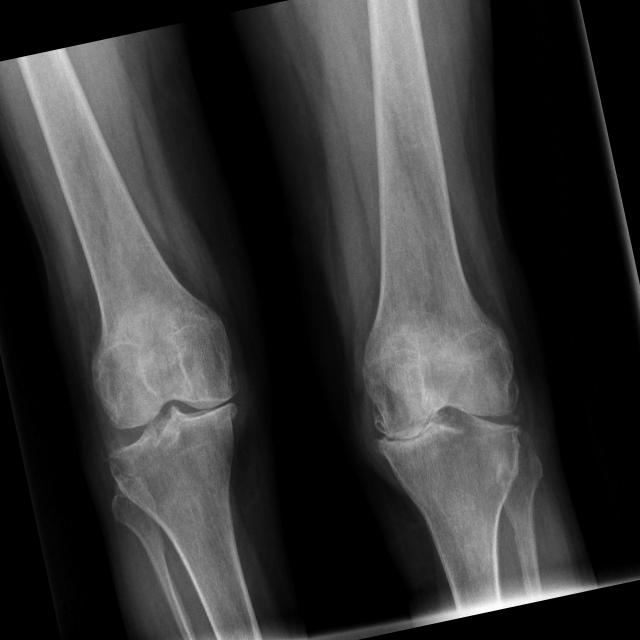Knee: (86, 328, 263, 504), (358, 337, 540, 500)
